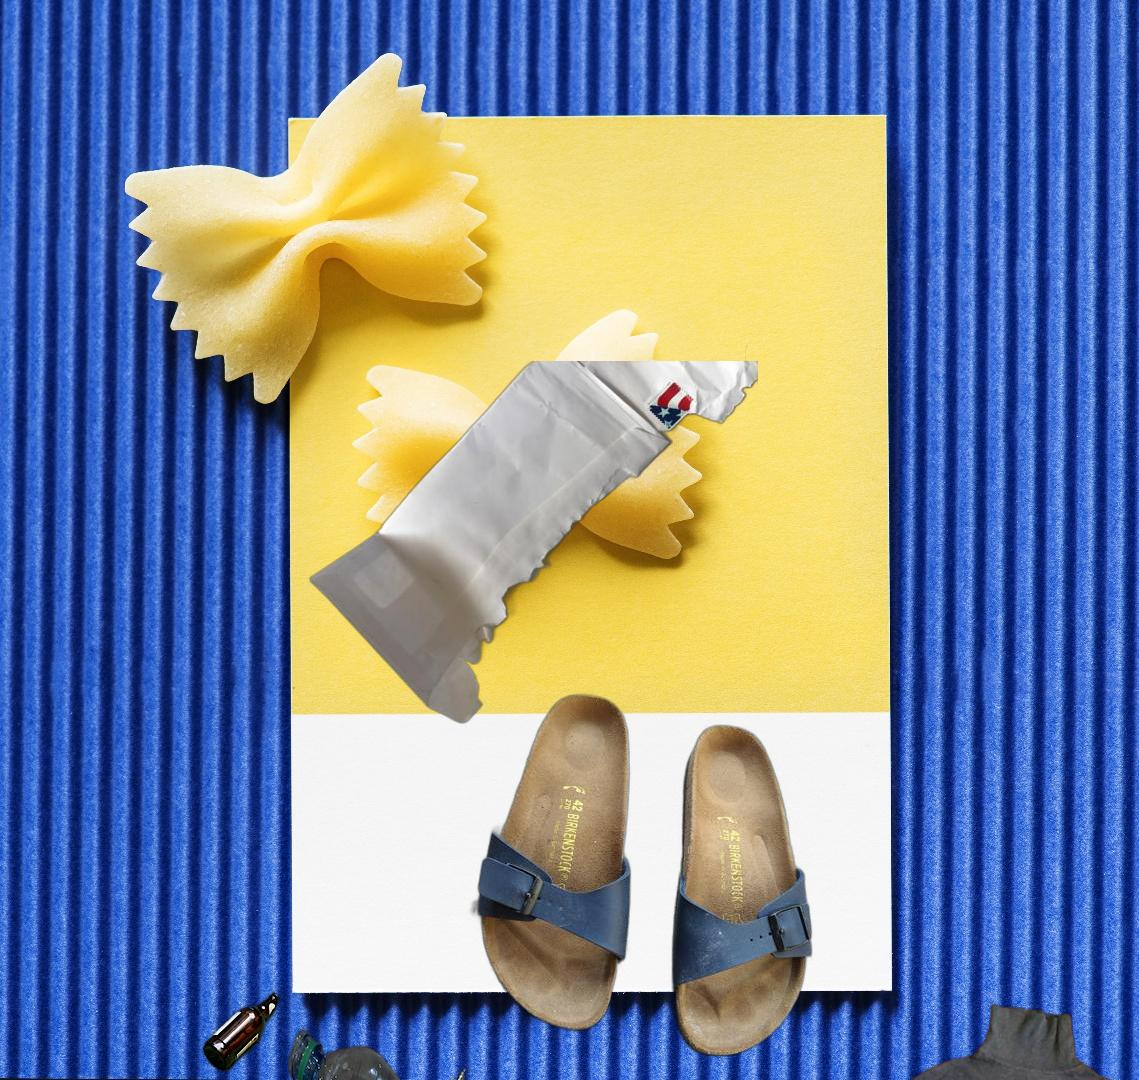biological: (960, 805, 1139, 1063)
clothes: (817, 999, 1139, 1080)
glass: (22, 987, 473, 1080)
paper: (305, 361, 758, 726)
plastic-bottles: (284, 1022, 573, 1080)
shoes: (466, 690, 816, 1061)
